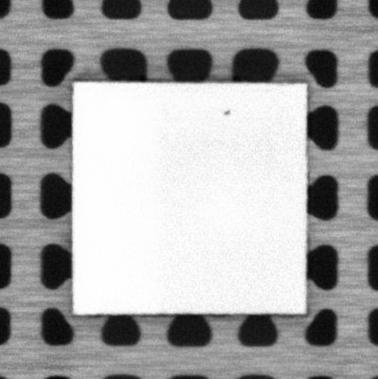DIE_INK: (222, 107, 233, 116)
